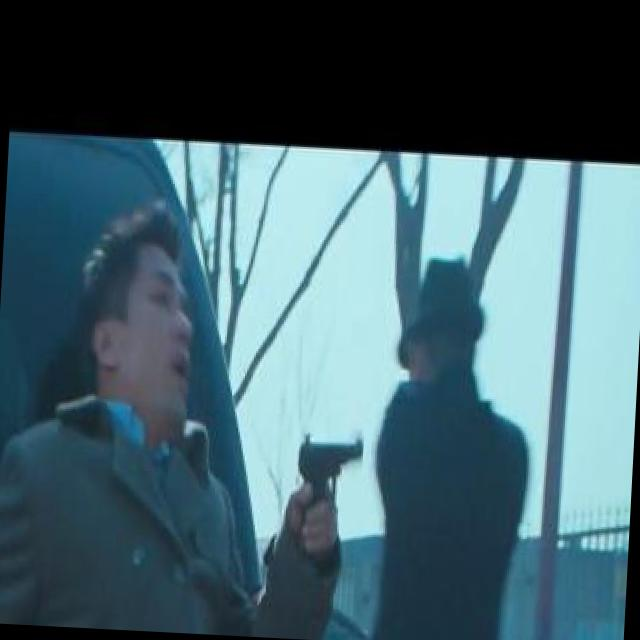Guns: (281, 412, 378, 539)
